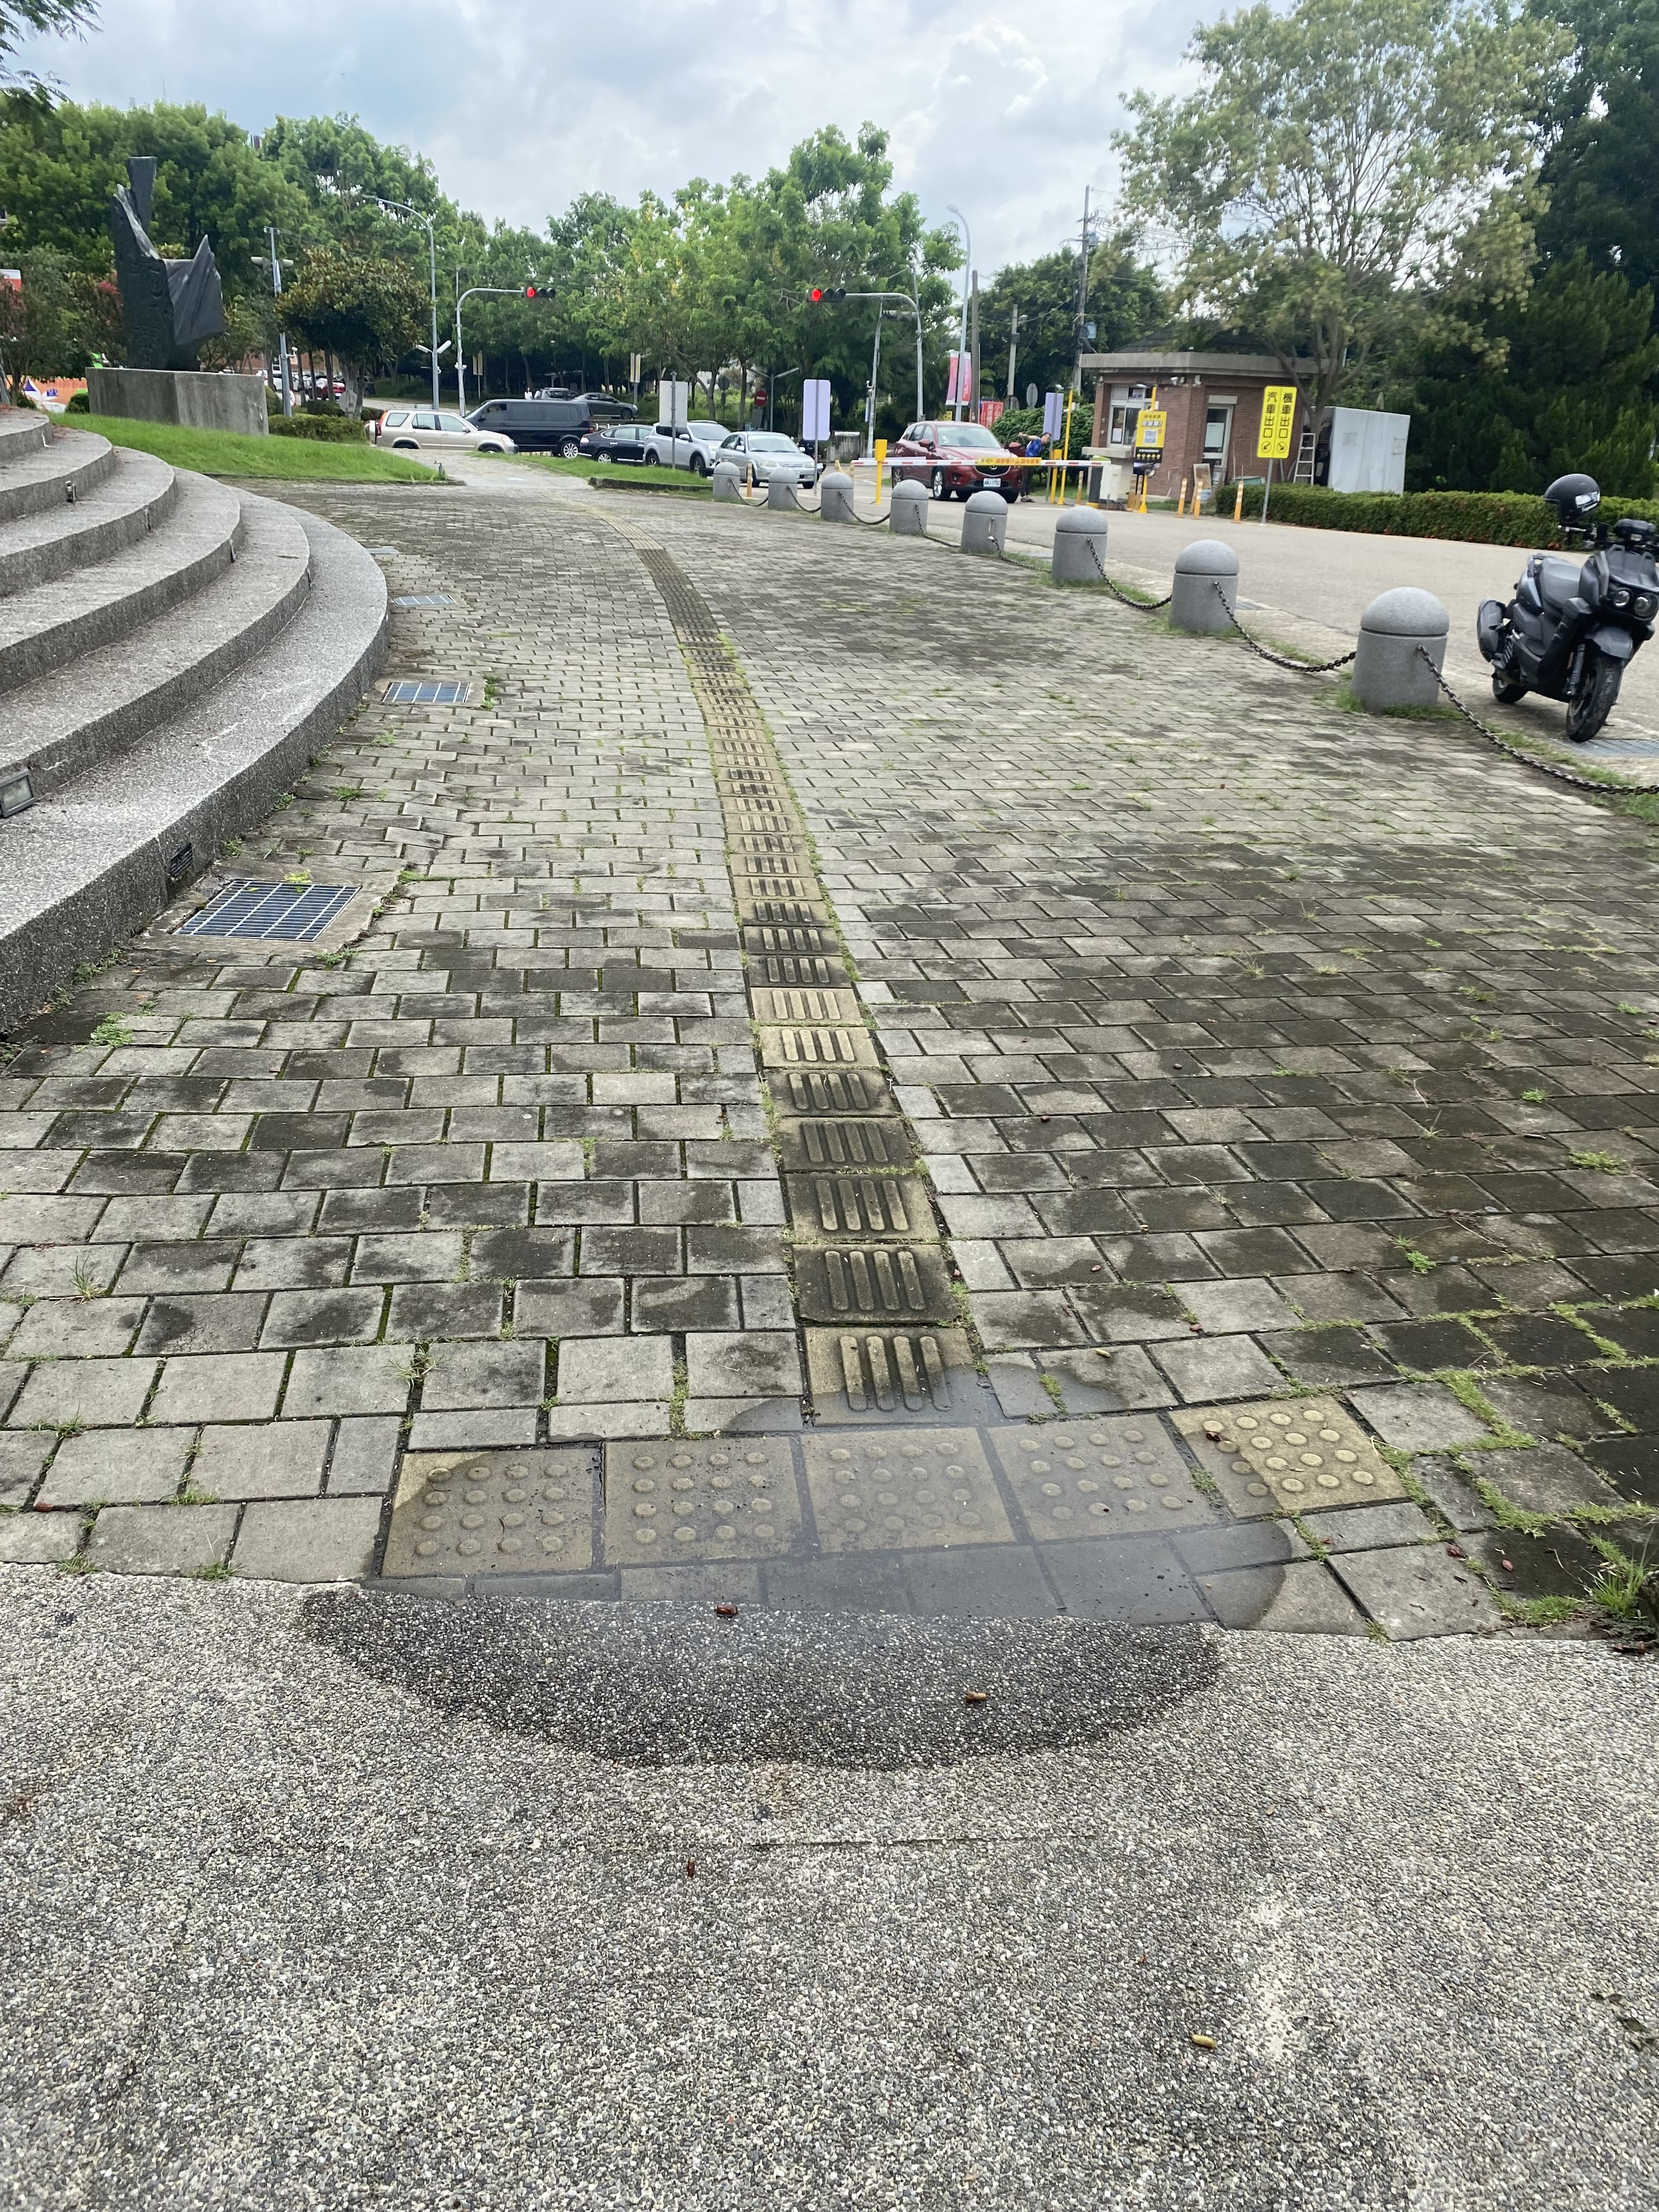sidewalk: (7, 392, 1659, 2212)
